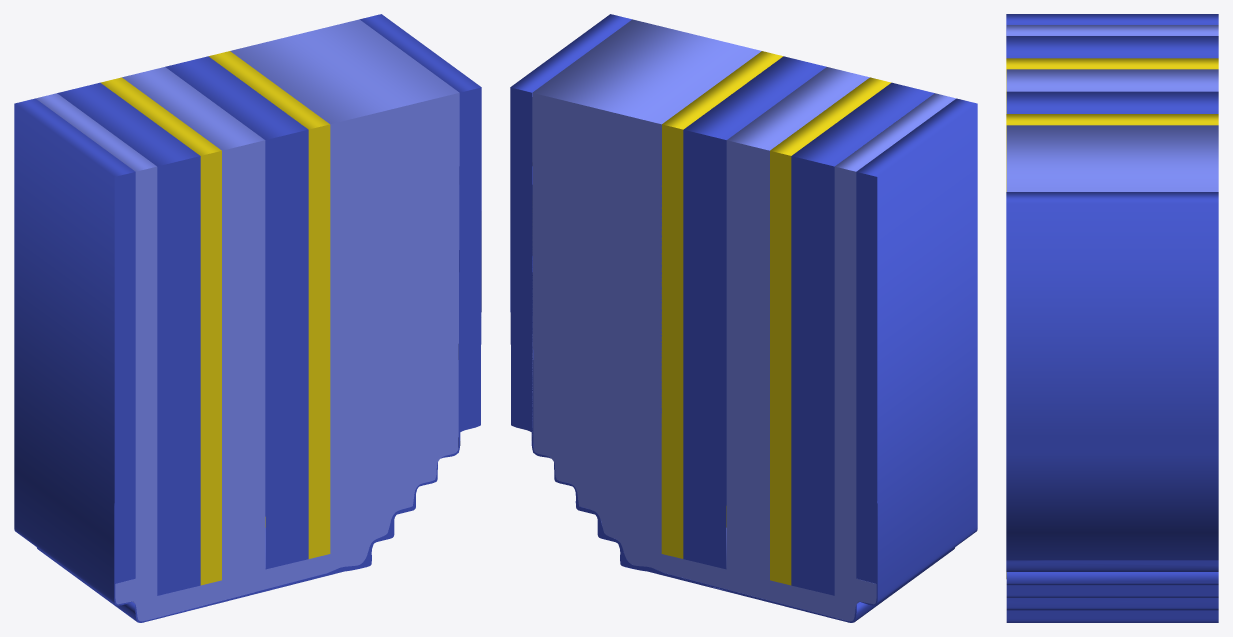
File: Toadz_4845.glb
3 renders of one model, left to right at view 1: azimuth 30°, elevation 25°; view 2: azimuth 150°, elevation 25°; view 3: azimuth 270°, elevation 25°, orthographic. The views are drawn at different scales.
Visible parts, largest first — view 1: Curve; view 2: Curve; view 3: Curve.
Part boxes in pixels (bbox=[...]): Curve: bbox=[14, 14, 481, 622]; Curve: bbox=[510, 14, 977, 622]; Curve: bbox=[1006, 14, 1218, 622].
Bounding box in the file's own units: 2.12 × 2.49 × 1.
